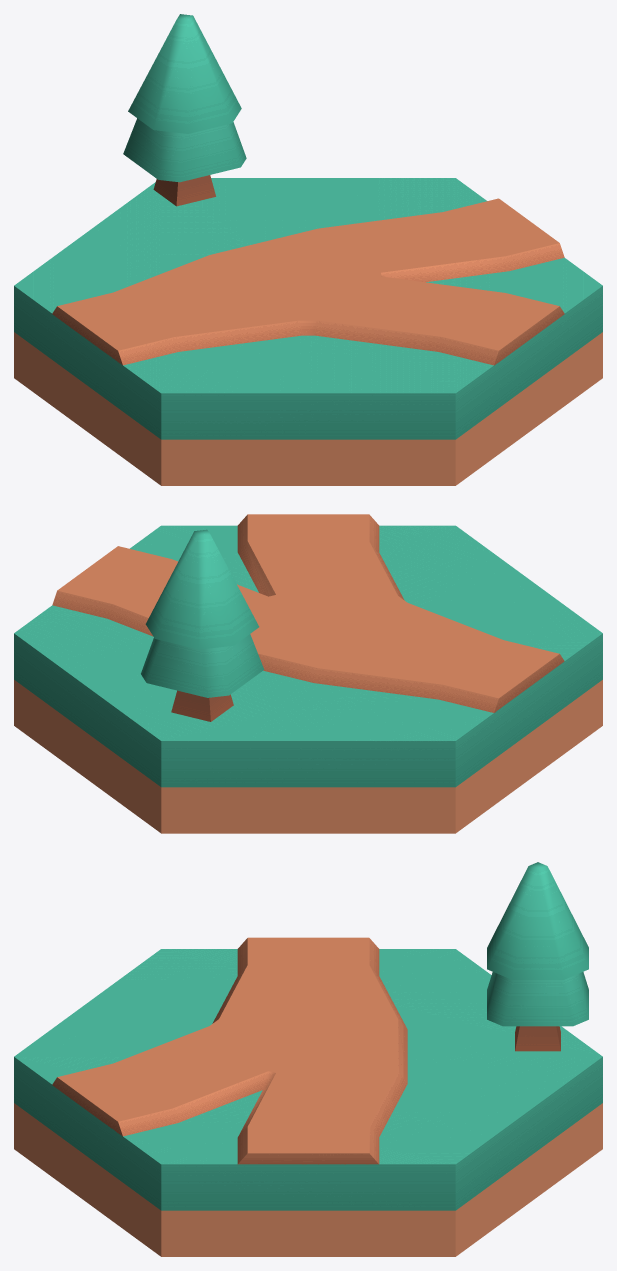
File: grass-path-intersectionC-tree.glb
The picture shows the model from 3 angles, top to bottom: view 1: azimuth 30°, elevation 25°; view 2: azimuth 150°, elevation 25°; view 3: azimuth 270°, elevation 25°; orthographic projection.
Visible parts, largest first — view 1: grass, path-intersectionC, unit-tree; view 2: grass, path-intersectionC, unit-tree; view 3: grass, path-intersectionC, unit-tree.
Part boxes in pixels (x1,y1,x2,y2): grass: [14, 178, 602, 485]; path-intersectionC: [52, 198, 564, 365]; unit-tree: [123, 14, 246, 206]; grass: [14, 525, 602, 833]; path-intersectionC: [52, 514, 564, 712]; unit-tree: [141, 529, 264, 721]; grass: [14, 949, 602, 1256]; path-intersectionC: [52, 937, 407, 1164]; unit-tree: [487, 862, 588, 1051].
Size of the model in its own units: 1 by 0.603 by 1.15.
Materials: 1 (1 with a texture image).
